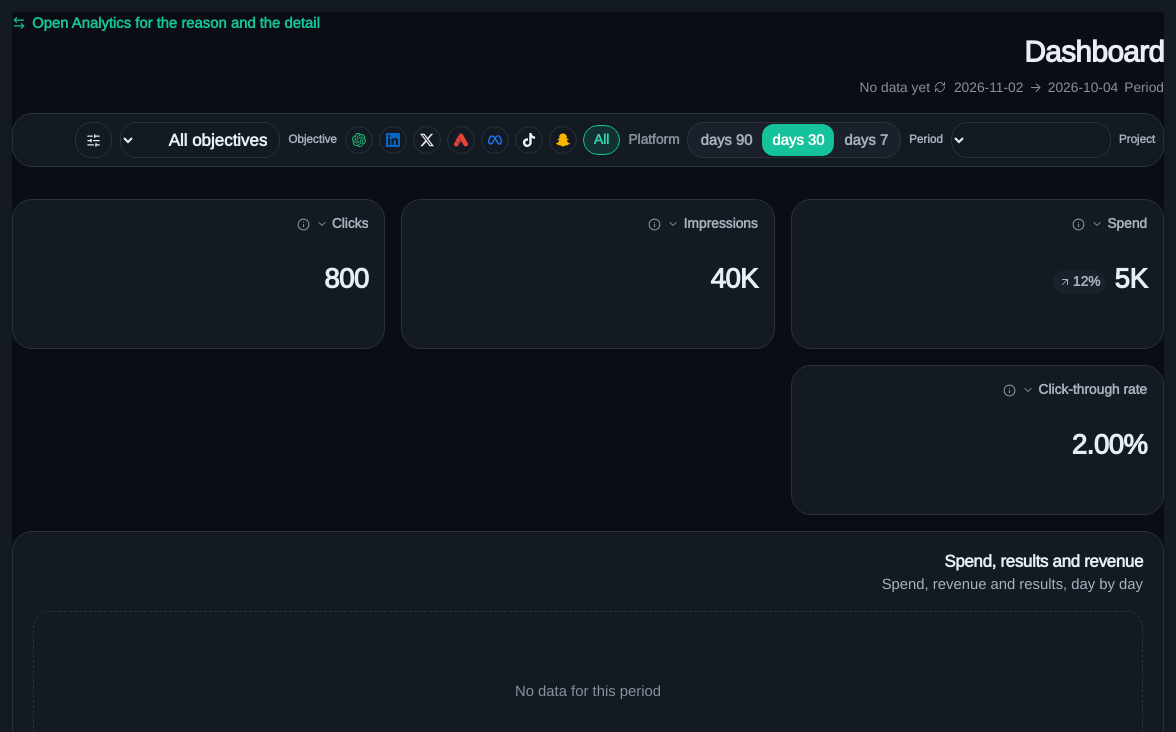
the dashboard filter bar › still offers the objective's own metrics in the Dashboard picker
Click the button with test id "kpi-picker-0": (1119, 224) [1091,216,1147,232]
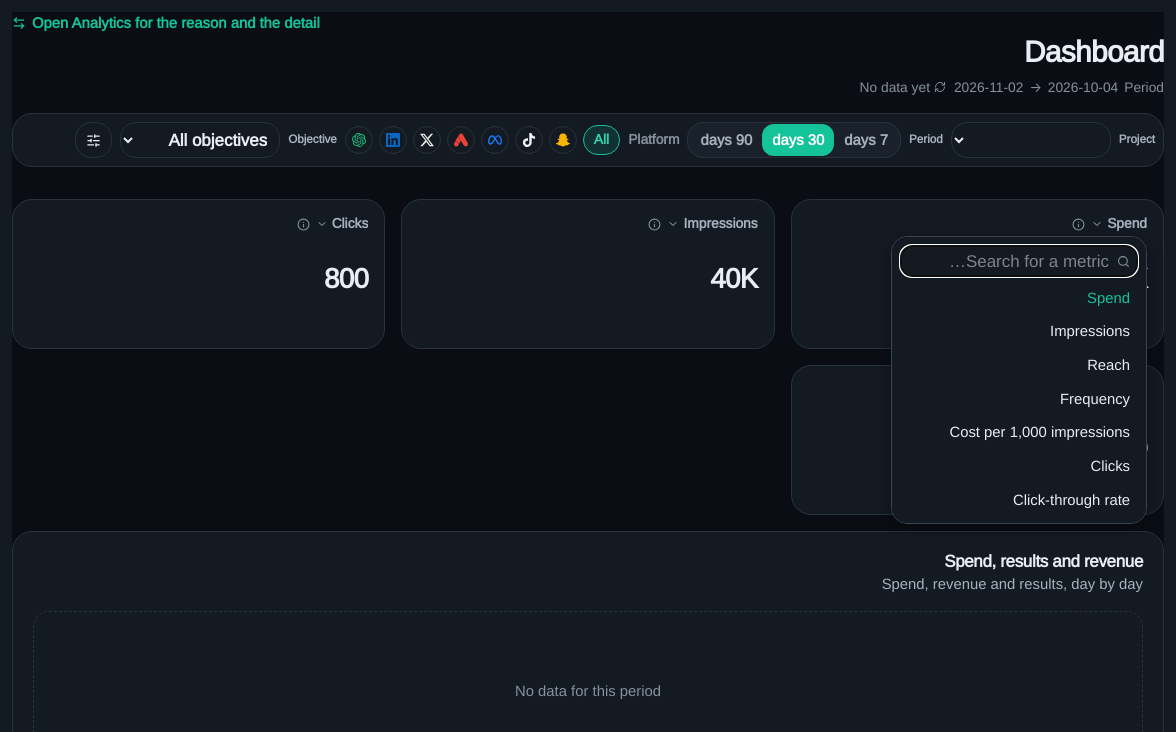
In the search field with test id "kpi-search": (1019, 261) [900,245,1138,277], type "roas"
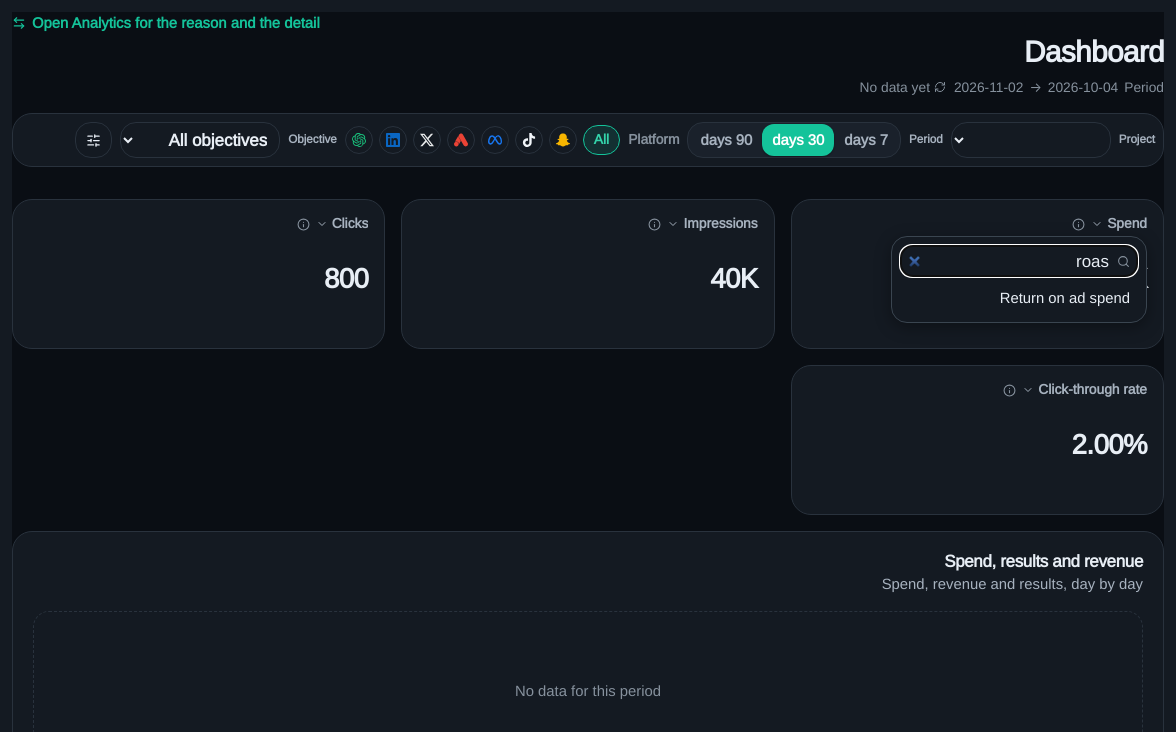
Expected: the button with test id "kpi-option-roas" is shown, [900,281,1138,314]
